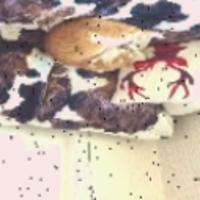asleep: (42, 14, 165, 75)
